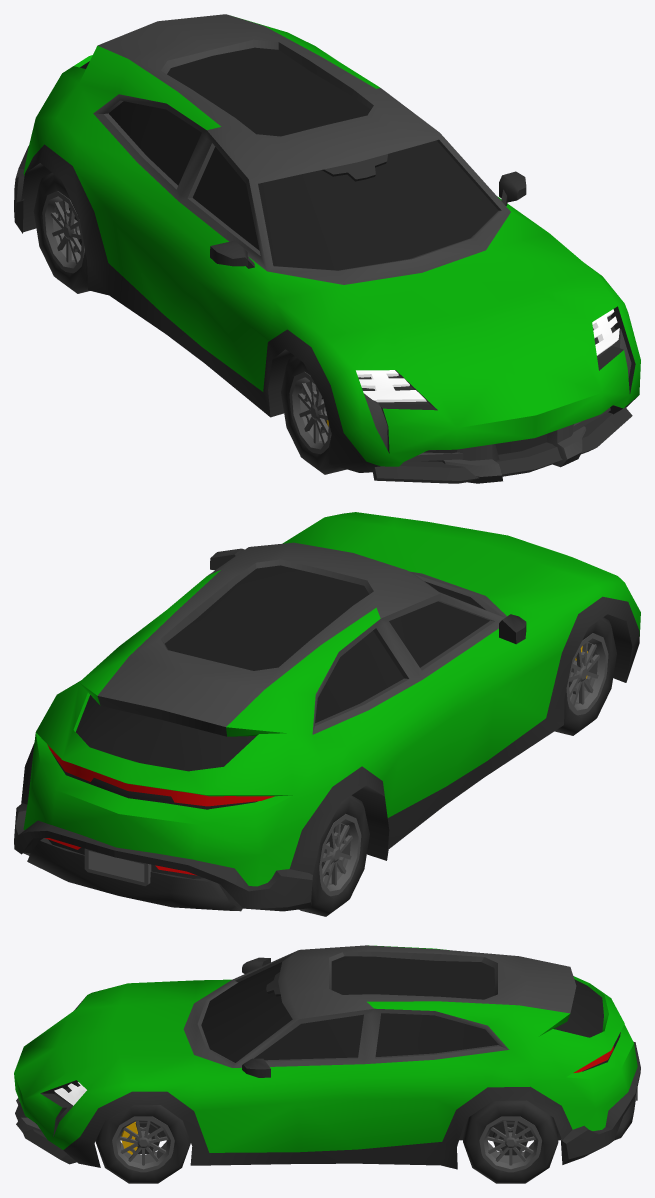
The model's file is ponche.glb.
3 views of the same model, one above another, from view 1: azimuth 30°, elevation 25°; view 2: azimuth 150°, elevation 25°; view 3: azimuth 270°, elevation 25° (orthographic). The views are drawn at different scales.
Visible parts, largest first — view 1: ponche, wheel1.019, wheel1.018; view 2: ponche, wheel1.019, wheel1.018; view 3: ponche, wheel1.009, wheel1.017.
Boxes of the visible parts, bbox=[...] form: ponche: bbox=[14, 14, 640, 483]; wheel1.019: bbox=[33, 172, 89, 293]; wheel1.018: bbox=[281, 356, 346, 474]; ponche: bbox=[14, 512, 640, 911]; wheel1.019: bbox=[299, 795, 369, 916]; wheel1.018: bbox=[554, 617, 616, 735]; ponche: bbox=[14, 945, 640, 1169]; wheel1.009: bbox=[463, 1100, 558, 1183]; wheel1.017: bbox=[95, 1105, 190, 1183].
Size of the model in its own units: 2.91 by 1.97 by 6.89.
3 materials, 3 textured.
